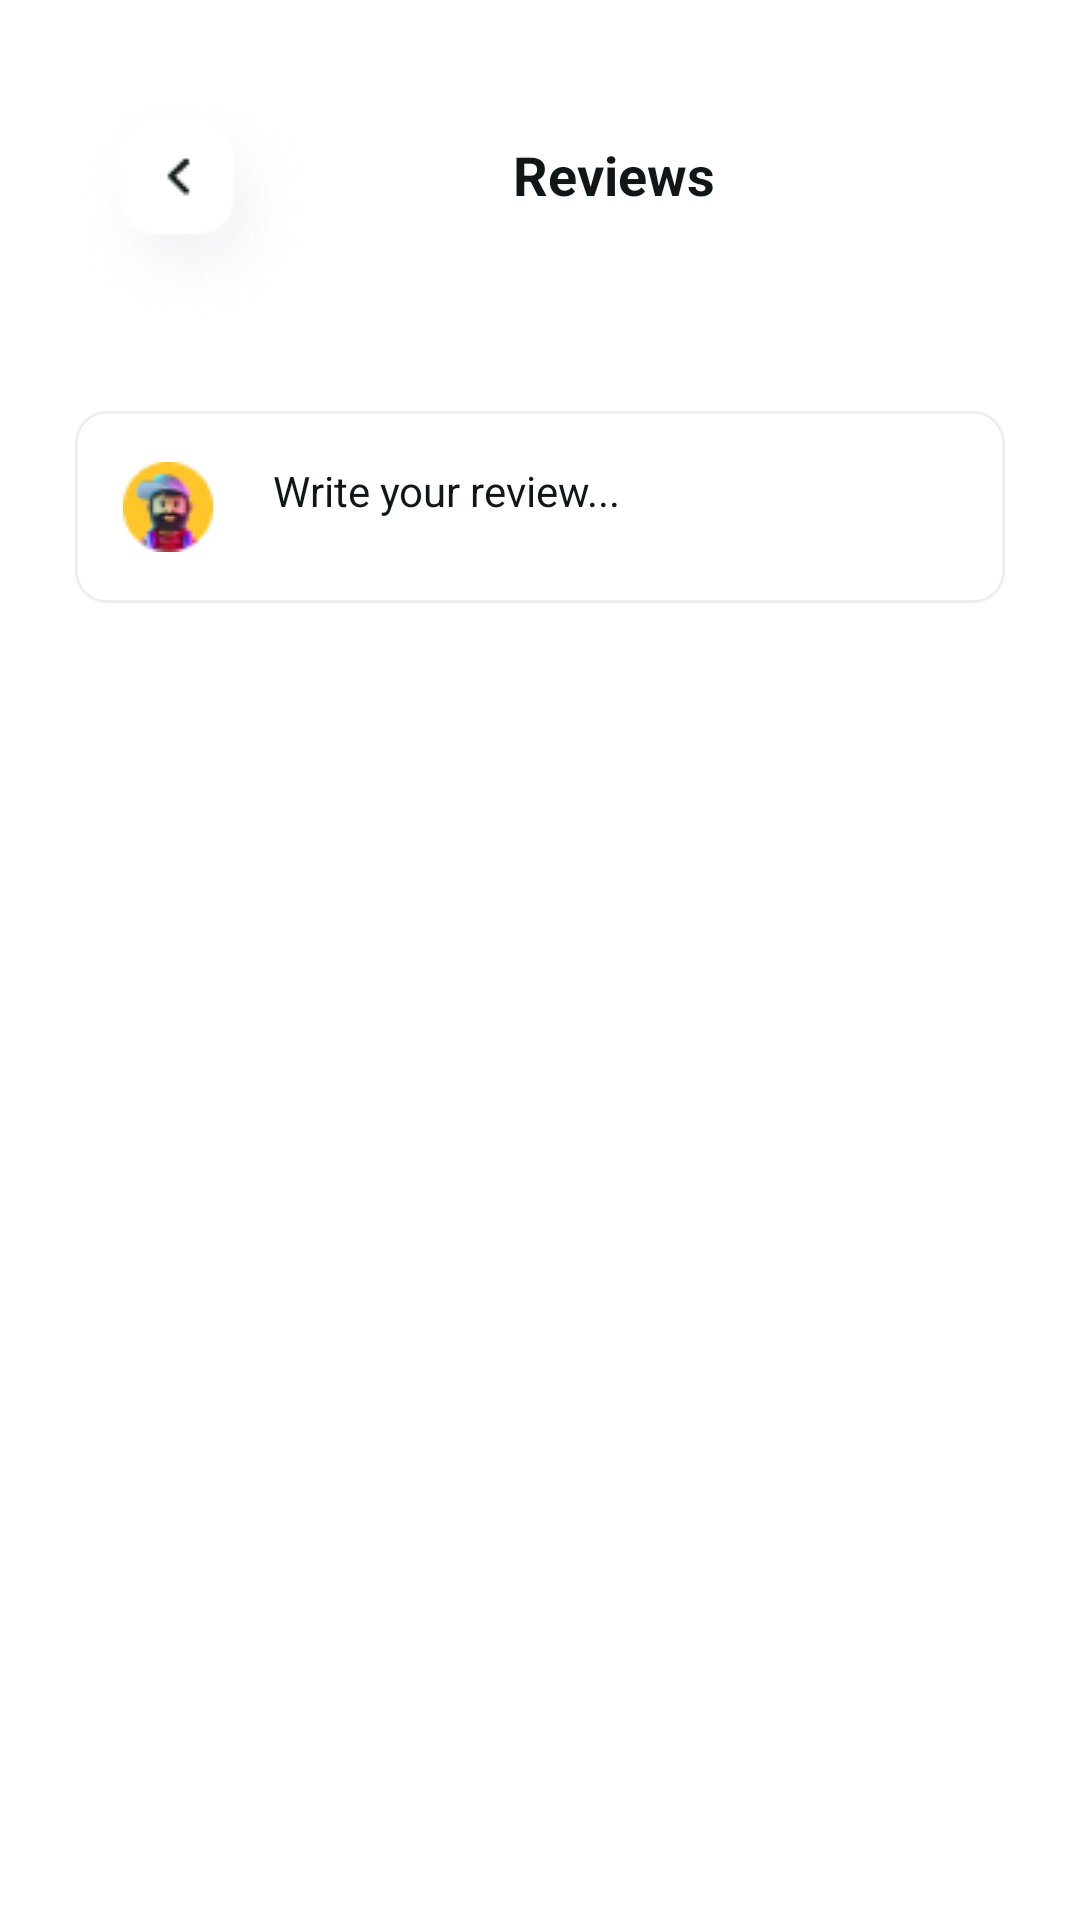

Locate icon controls on the screen. Image size 1080px x 1920px, boxes as rect(x1, y1, x2, y2).
back: rect(167, 158, 190, 196)
